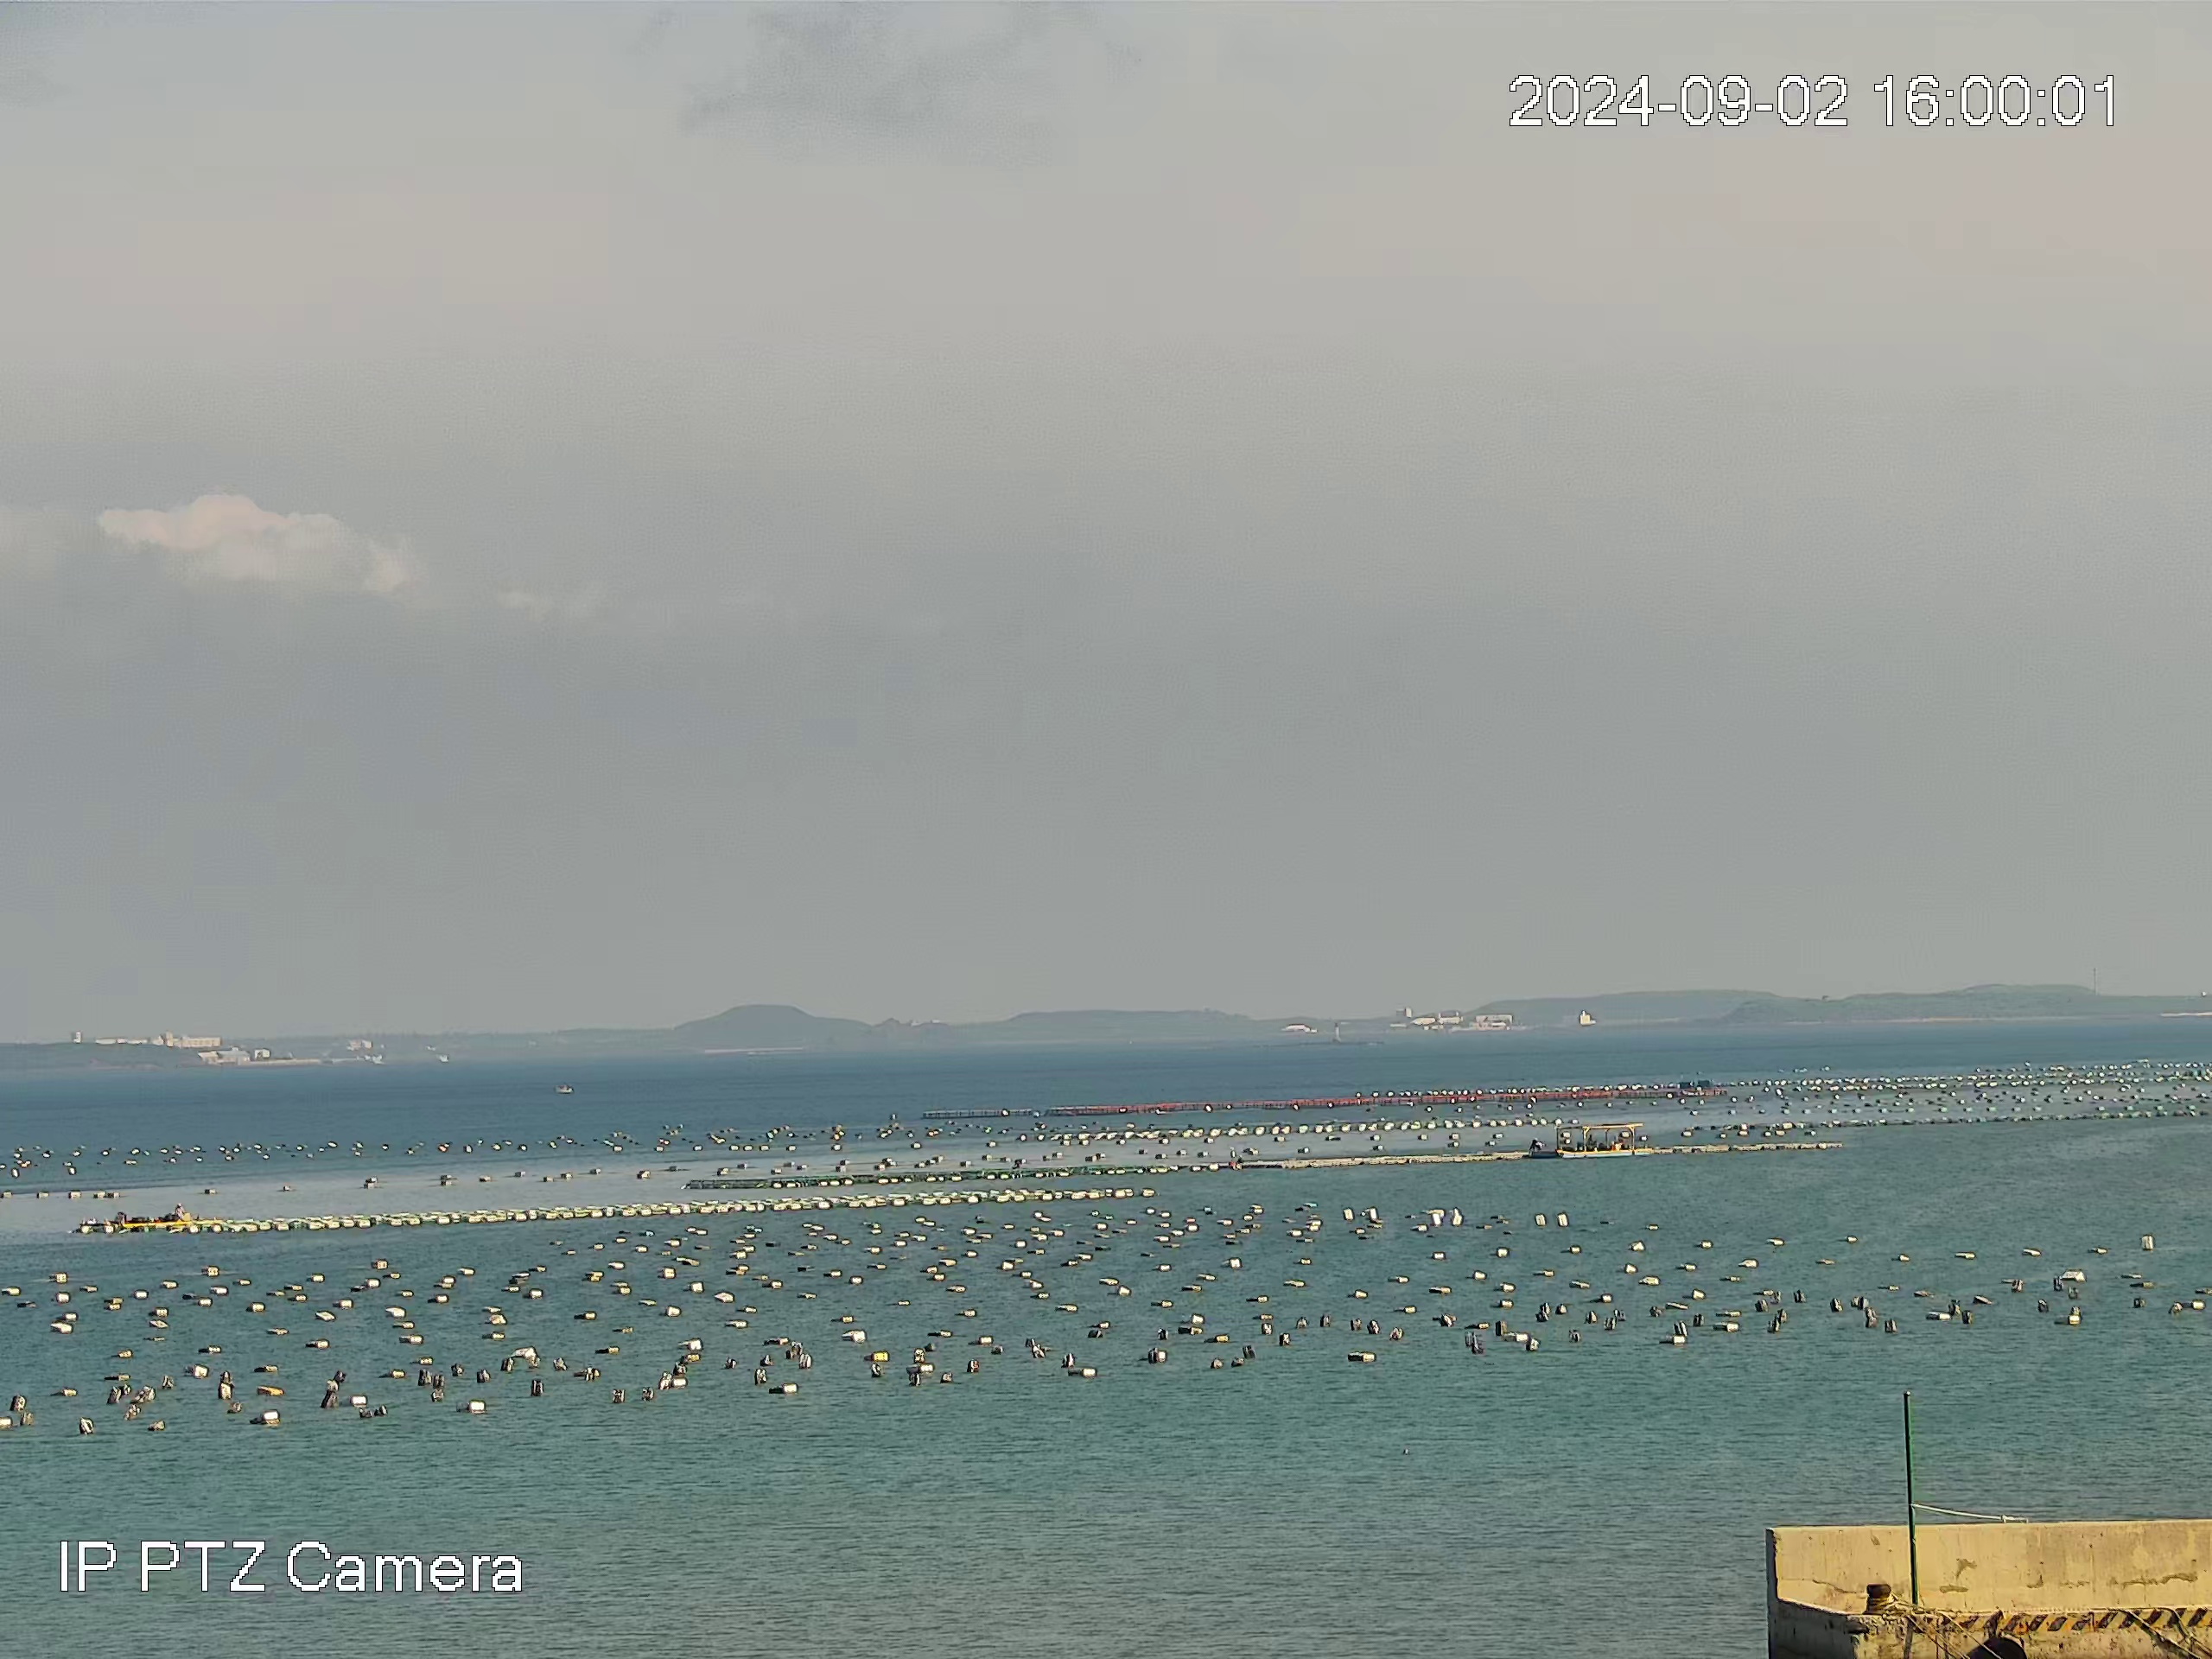boat: (1552, 1122, 1656, 1159), (103, 1202, 225, 1227), (554, 1082, 575, 1094)
